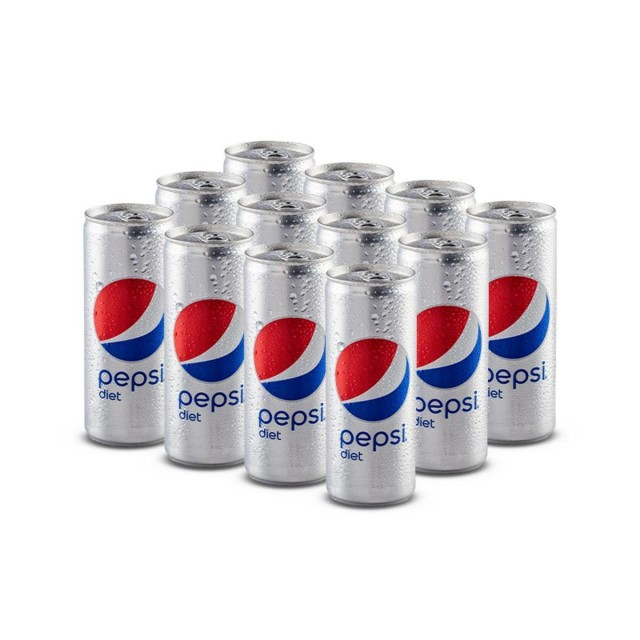pepsi: (173, 300, 251, 385), (480, 272, 554, 361), (333, 338, 412, 421), (417, 302, 486, 392), (253, 317, 327, 400), (93, 276, 165, 361)
